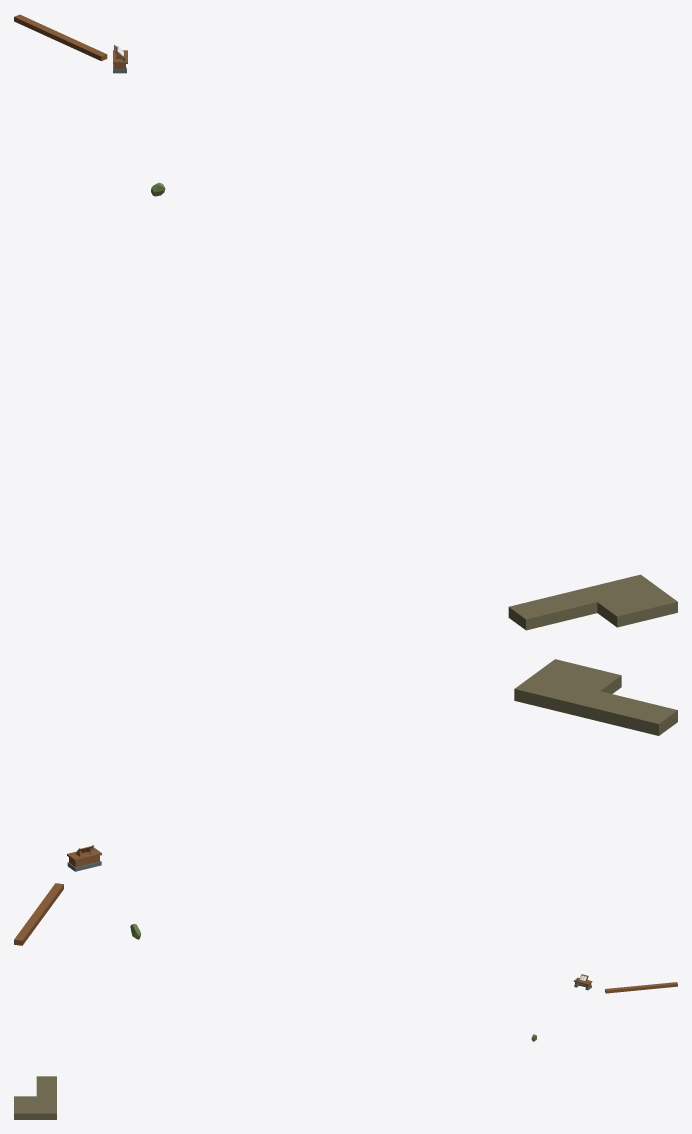
3 renders of one model, top to bottom at view 1: azimuth 30°, elevation 25°; view 2: azimuth 150°, elevation 25°; view 3: azimuth 270°, elevation 25°, orthographic. The views are drawn at different scales.
Visible parts, largest first — view 1: Box191_rock2_0, Box529_brown_0; view 2: Box191_rock2_0, Box529_brown_0; view 3: Box191_rock2_0, Box529_brown_0.
Part boxes in pixels (x1,y1,x2,y2): Box191_rock2_0: (508, 574, 677, 630); Box529_brown_0: (14, 14, 107, 60); Box191_rock2_0: (514, 659, 677, 735); Box529_brown_0: (14, 883, 63, 945); Box191_rock2_0: (14, 1076, 56, 1119); Box529_brown_0: (605, 982, 677, 993).
Bounding box in the file's own units: 748 × 1182 × 5657.
